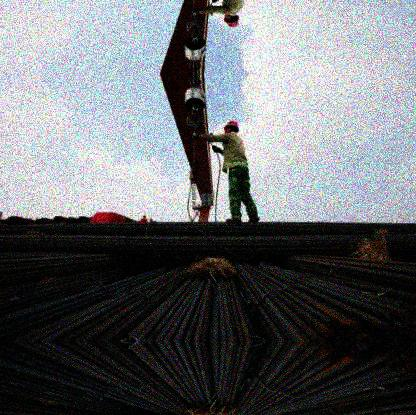helmet: (222, 120, 240, 133), (223, 14, 241, 27)
